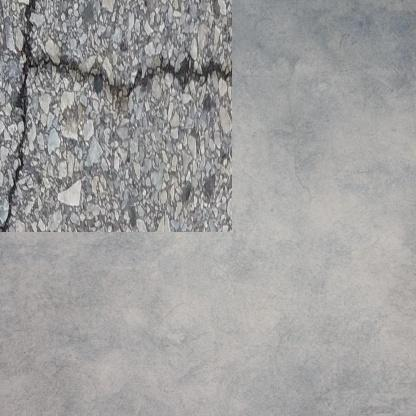Cracks: (0, 0, 214, 214)
